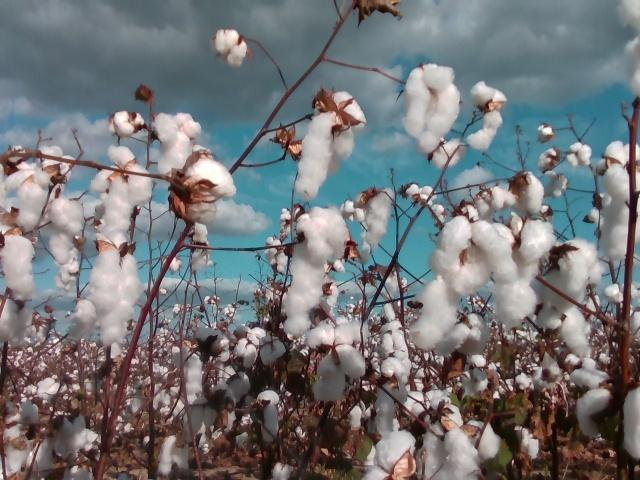cotton_ready: (411, 217, 517, 350), (283, 204, 349, 335), (294, 89, 368, 196), (91, 142, 155, 247), (401, 61, 461, 153), (533, 237, 604, 311), (89, 249, 140, 347), (599, 140, 640, 258), (176, 152, 239, 227), (311, 324, 366, 405), (172, 327, 230, 403), (0, 420, 60, 480), (422, 421, 480, 480), (4, 169, 58, 230), (533, 304, 592, 356), (466, 81, 507, 150), (155, 111, 202, 170), (517, 219, 557, 286), (0, 228, 37, 300), (365, 429, 416, 480), (374, 359, 409, 429), (48, 197, 85, 262), (360, 189, 397, 254), (437, 315, 491, 359), (469, 420, 512, 469), (406, 389, 462, 426), (186, 390, 235, 431), (577, 388, 615, 438), (51, 411, 88, 462), (237, 328, 289, 362), (0, 296, 30, 345), (516, 171, 547, 218), (256, 390, 281, 446), (565, 354, 610, 385), (378, 318, 411, 359), (621, 389, 640, 460), (158, 437, 191, 477), (475, 184, 516, 216), (212, 32, 249, 67), (0, 145, 34, 183), (471, 188, 516, 216), (42, 148, 78, 178), (431, 137, 463, 165), (109, 111, 143, 137)
